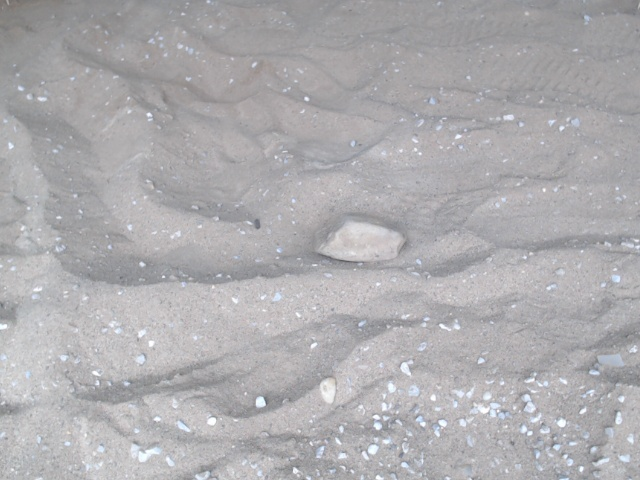rock: (308, 208, 416, 268)
